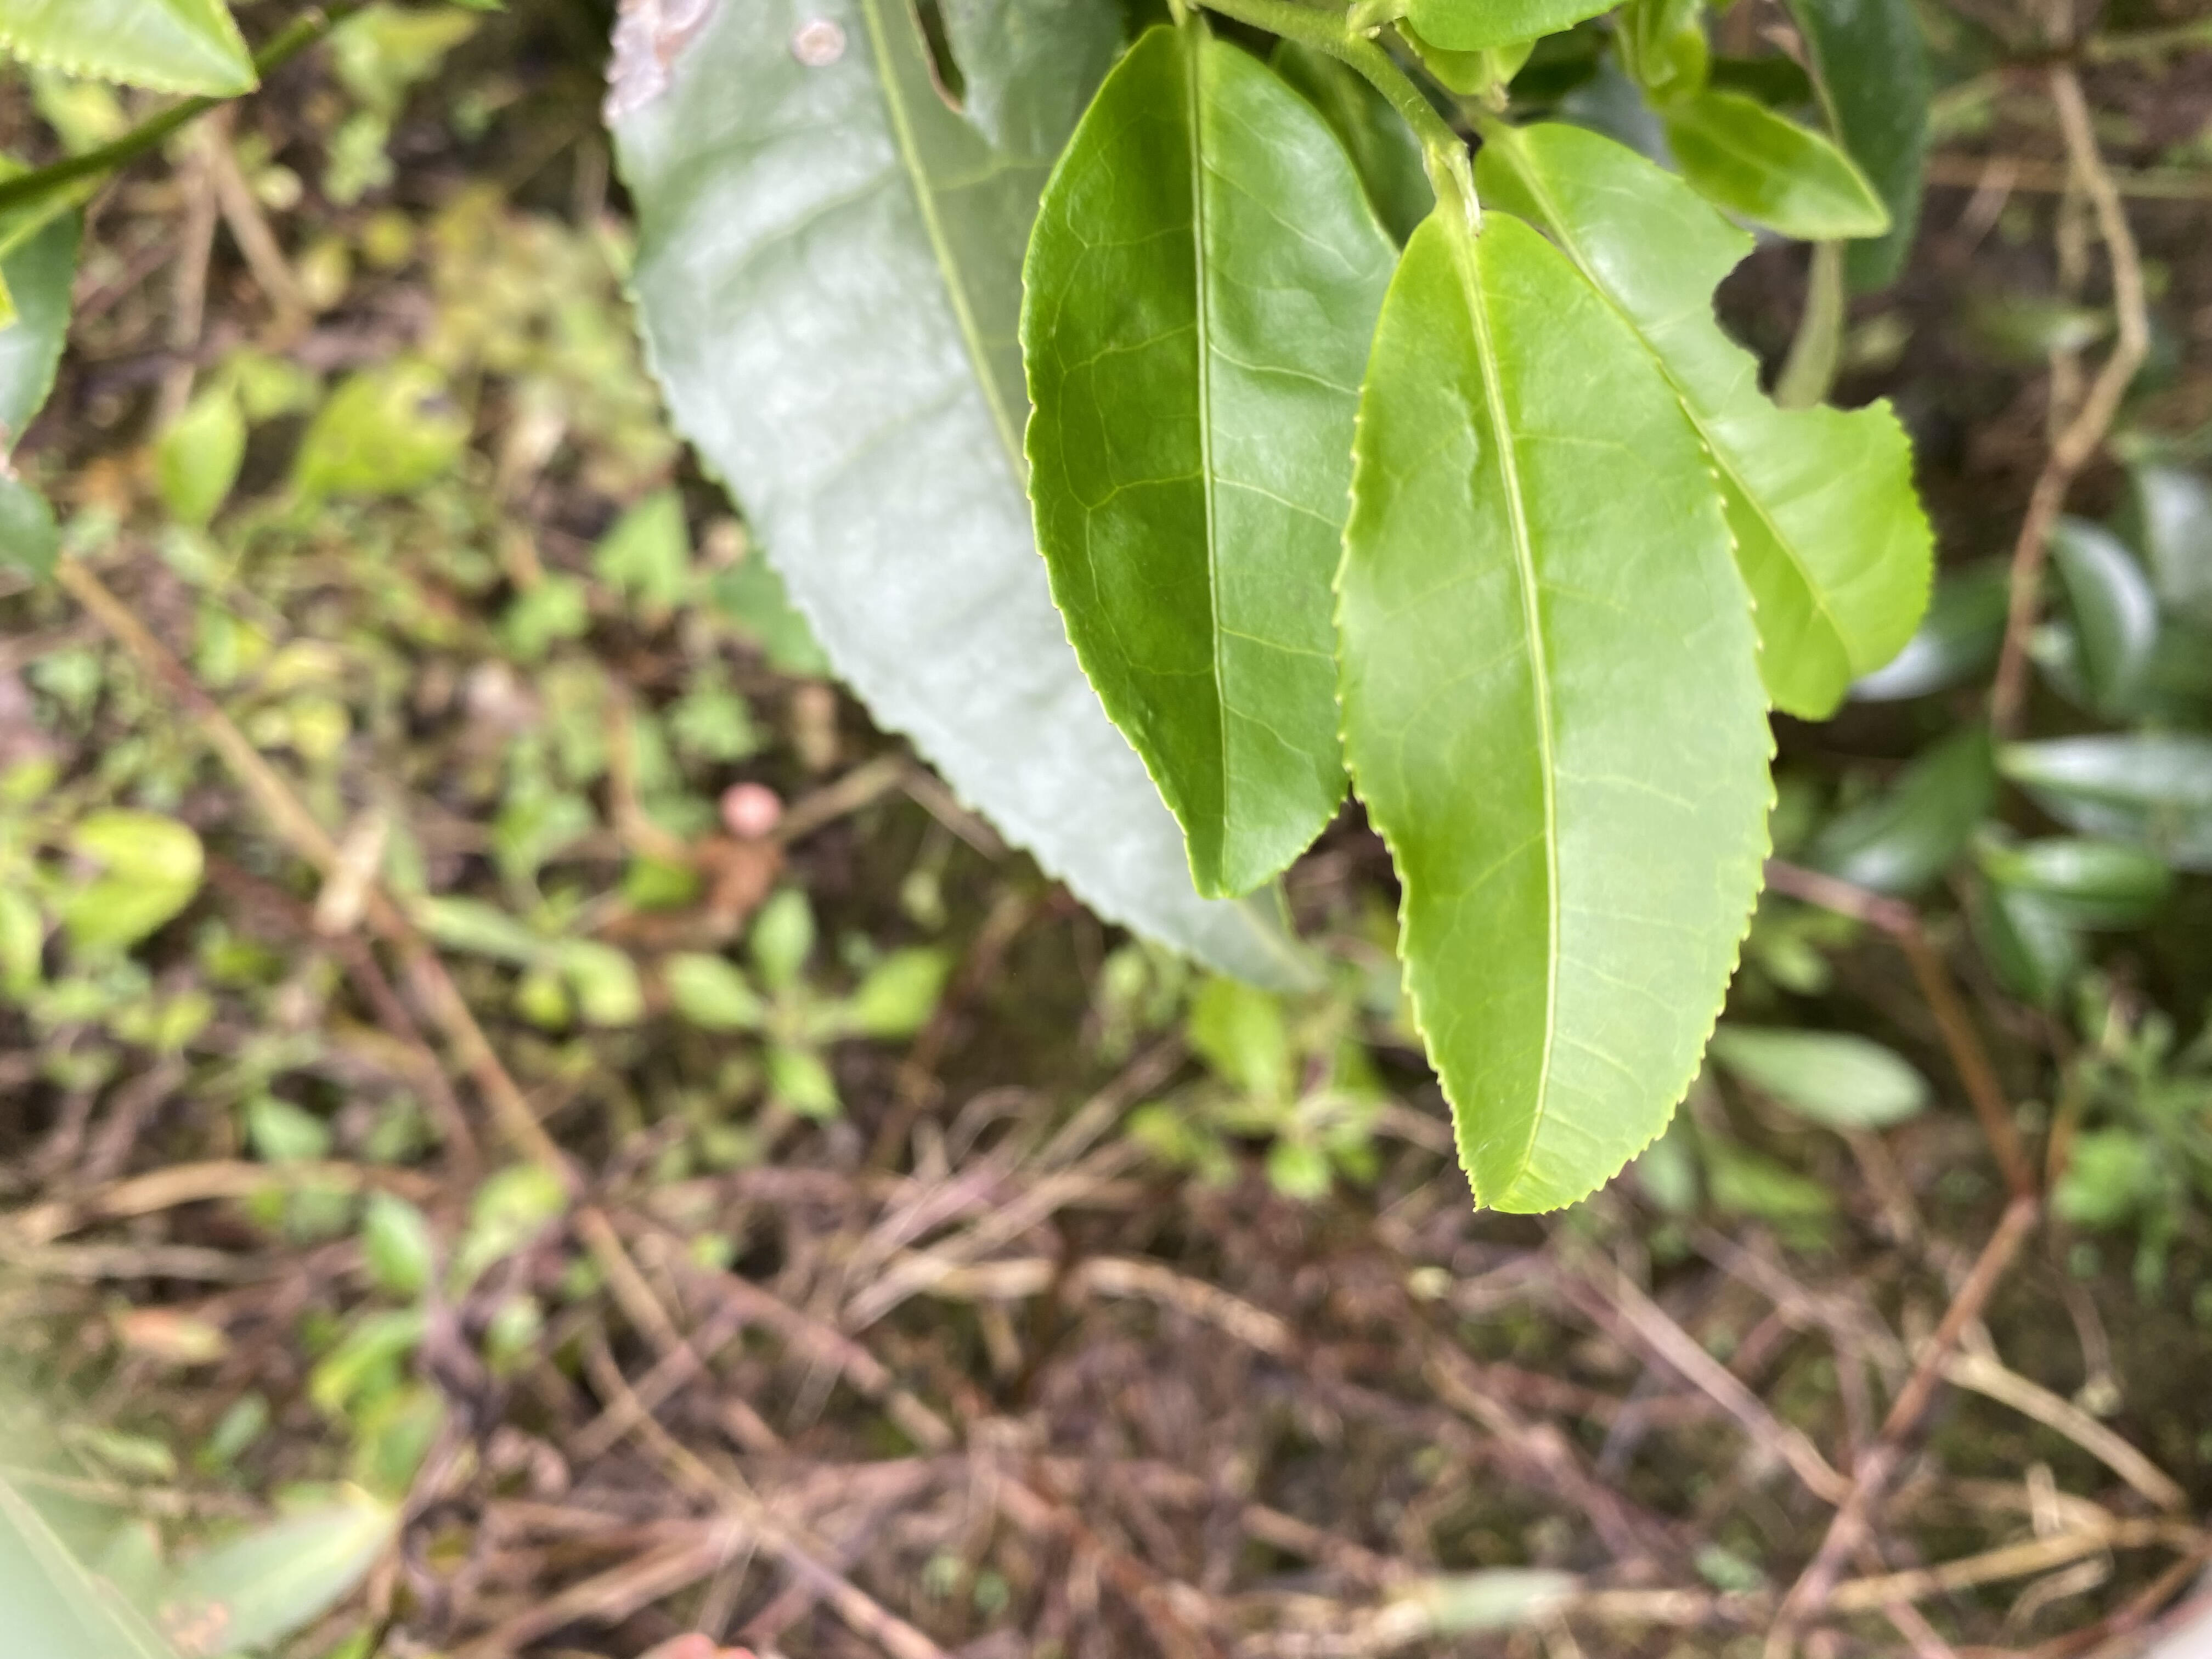chihuo_low: (1470, 122, 1939, 721)
healthy: (1329, 204, 1780, 1215), (1017, 24, 1402, 904)
